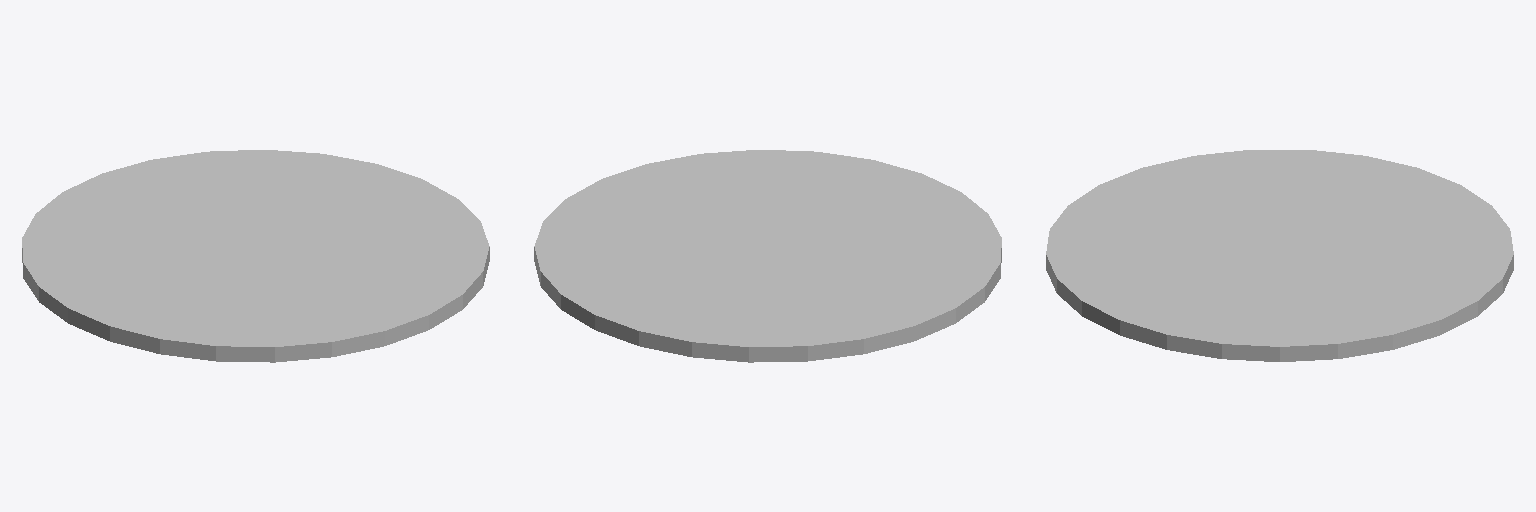
Rendered from FIXED OBJ.obj.
The picture shows the model from 3 angles: view 1: azimuth 30°, elevation 25°; view 2: azimuth 150°, elevation 25°; view 3: azimuth 270°, elevation 25°; orthographic projection.
Visible parts, largest first — view 1: polySurface3 pCylinder1, pCylinder1 polySurface1; view 2: polySurface3 pCylinder1, pCylinder1 polySurface1; view 3: polySurface3 pCylinder1, pCylinder1 polySurface1.
Boxes of the visible parts, x1=… form: polySurface3 pCylinder1: x1=22, y1=150, x2=489, y2=346; pCylinder1 polySurface1: x1=22, y1=247, x2=489, y2=362; polySurface3 pCylinder1: x1=534, y1=150, x2=1001, y2=346; pCylinder1 polySurface1: x1=534, y1=247, x2=1001, y2=362; polySurface3 pCylinder1: x1=1046, y1=150, x2=1513, y2=346; pCylinder1 polySurface1: x1=1046, y1=255, x2=1513, y2=361.
Size of the model in its own units: 1.28 by 0.0461 by 1.28.